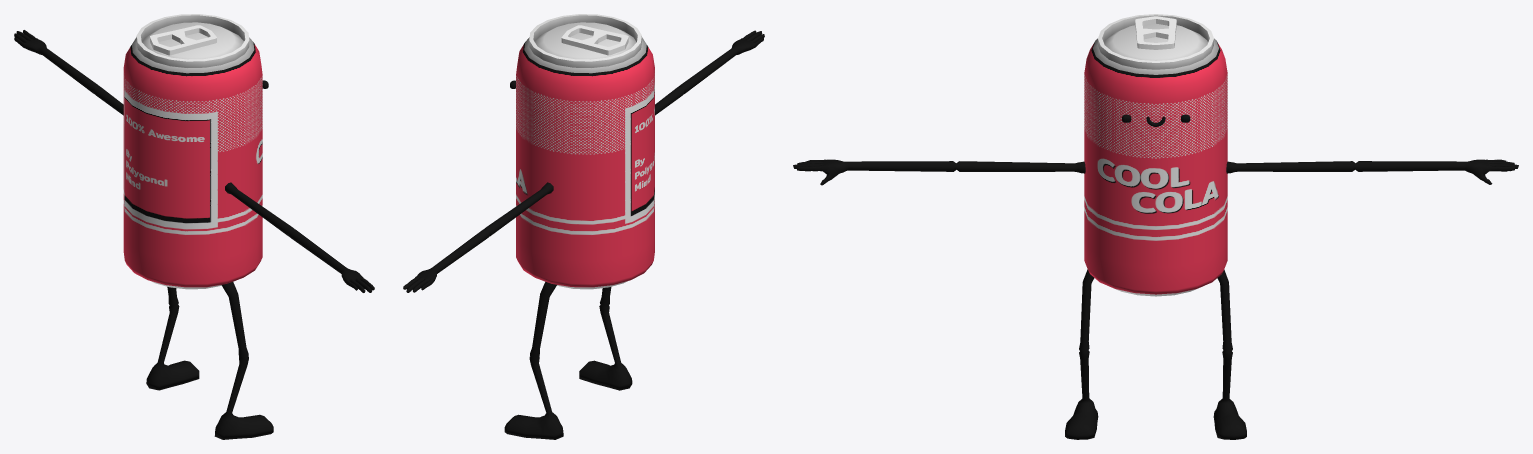
The model's file is Cola Character.glb.
3 renders of one model, left to right at view 1: azimuth 30°, elevation 25°; view 2: azimuth 150°, elevation 25°; view 3: azimuth 270°, elevation 25°, orthographic. The views are drawn at different scales.
Parts seen in each view (by area): view 1: _100Avatars_193_CoolCola; view 2: _100Avatars_193_CoolCola; view 3: _100Avatars_193_CoolCola.
Part boxes in pixels (x1,y1,x2,y2): _100Avatars_193_CoolCola: (14, 14, 374, 439); _100Avatars_193_CoolCola: (403, 14, 764, 439); _100Avatars_193_CoolCola: (793, 14, 1518, 439).
Size of the model in its own units: 1.29 by 3.74 by 6.41.
1 material, 1 textured.
